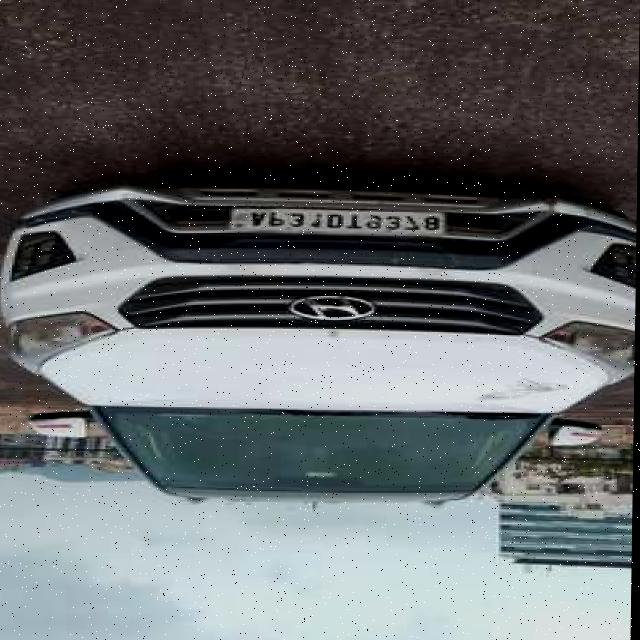plate: (229, 206, 447, 238)
